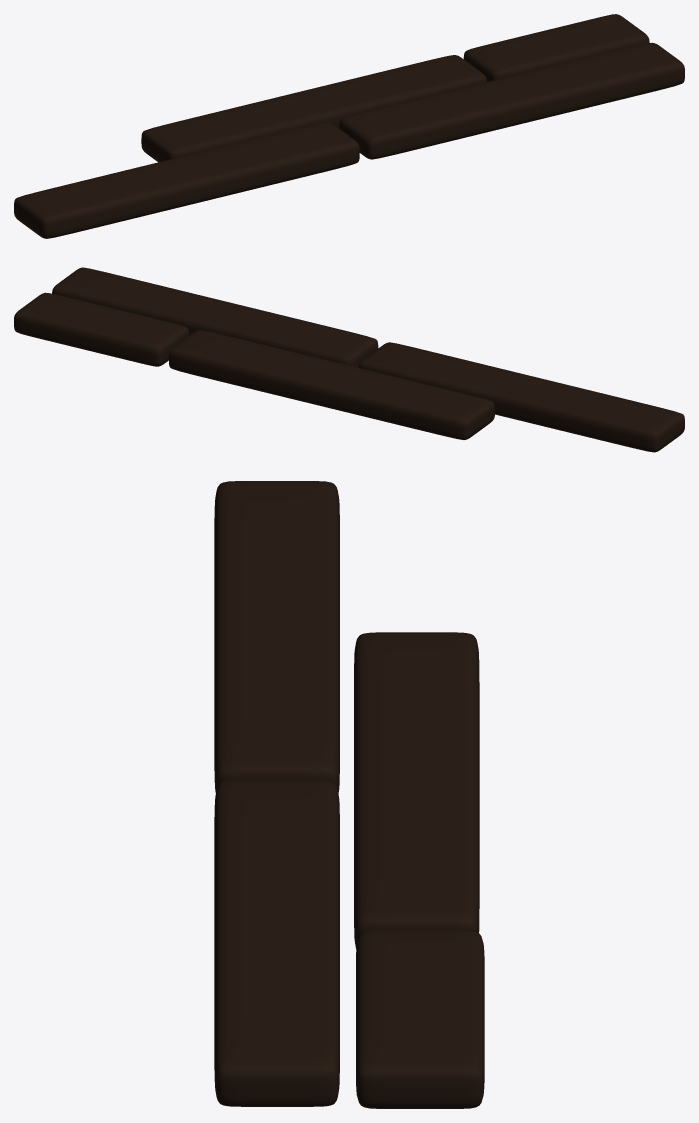
Rendered from floor_tiles.obj.
3 views of the same model, one above another, from view 1: azimuth 30°, elevation 25°; view 2: azimuth 150°, elevation 25°; view 3: azimuth 270°, elevation 25° (orthographic). The views are drawn at different scales.
Visible parts, largest first — view 1: Cube.008, Cube.001, Cube.016; view 2: Cube.008, Cube.001, Cube.016; view 3: Cube.008, Cube.001, Cube.016.
Boxes of the visible parts, x1,y1,x2,y2 form: Cube.008: [14, 42, 684, 238]; Cube.001: [141, 55, 487, 162]; Cube.016: [463, 14, 649, 81]; Cube.008: [52, 267, 684, 452]; Cube.001: [169, 330, 494, 439]; Cube.016: [14, 292, 189, 366]; Cube.008: [214, 481, 339, 1106]; Cube.001: [354, 632, 479, 948]; Cube.016: [356, 930, 484, 1108].
Size of the model in its own units: 5.87 by 0.2038 by 1.13.
